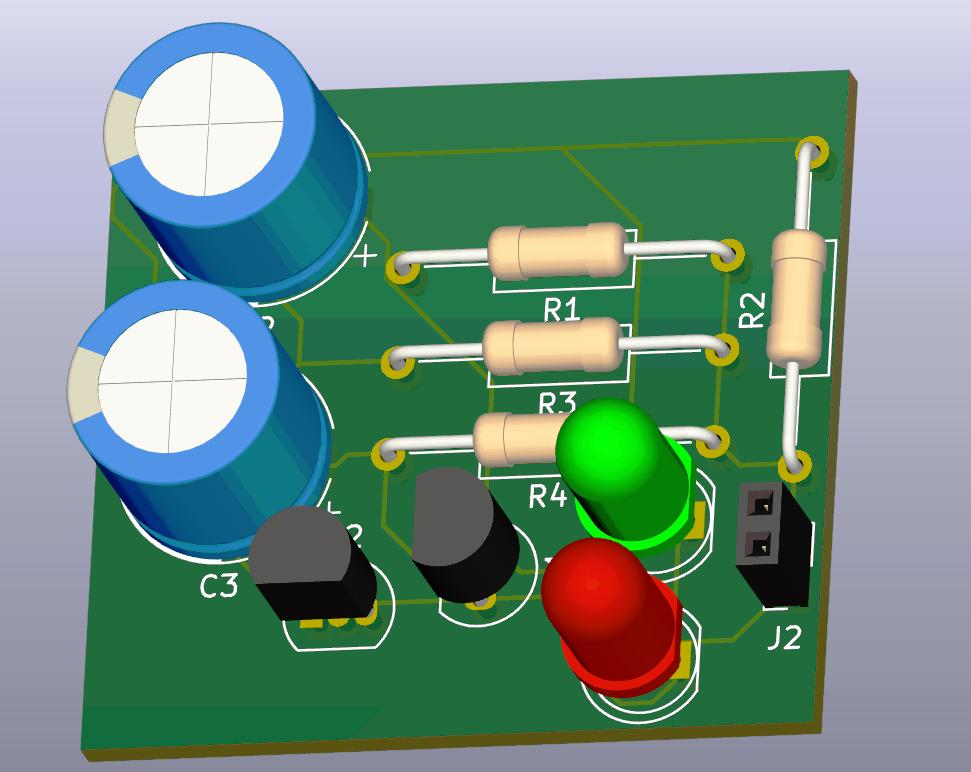capacitor: (101, 23, 366, 303), (68, 282, 333, 559)
green_led: (556, 403, 695, 547)
red_led: (542, 534, 679, 697)
resistor: (758, 243, 838, 380), (489, 223, 622, 281), (489, 318, 616, 376), (482, 411, 560, 465)
transistor: (247, 503, 382, 628), (410, 464, 519, 606)
